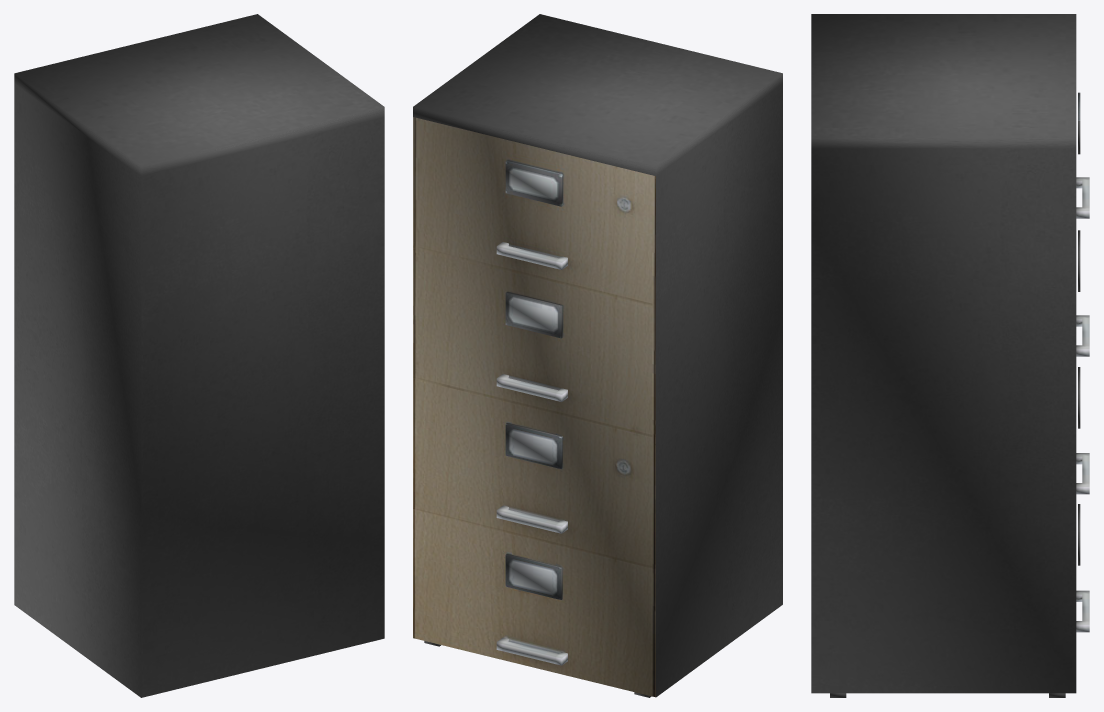
Rendered from cabinet_a.glb.
The picture shows the model from 3 angles, left to right: view 1: azimuth 30°, elevation 25°; view 2: azimuth 150°, elevation 25°; view 3: azimuth 270°, elevation 25°; orthographic projection. The views are drawn at different scales.
Parts seen in each view (by area): view 1: Body; view 2: Body; view 3: Body.
Boxes of the visible parts, x1,y1,x2,y2 form: Body: (14,14,384,697); Body: (413,14,782,697); Body: (811,14,1089,697).
Bounding box in the file's own units: 25.21 × 53.37 × 23.9.
Materials: 1 (1 with a texture image).
